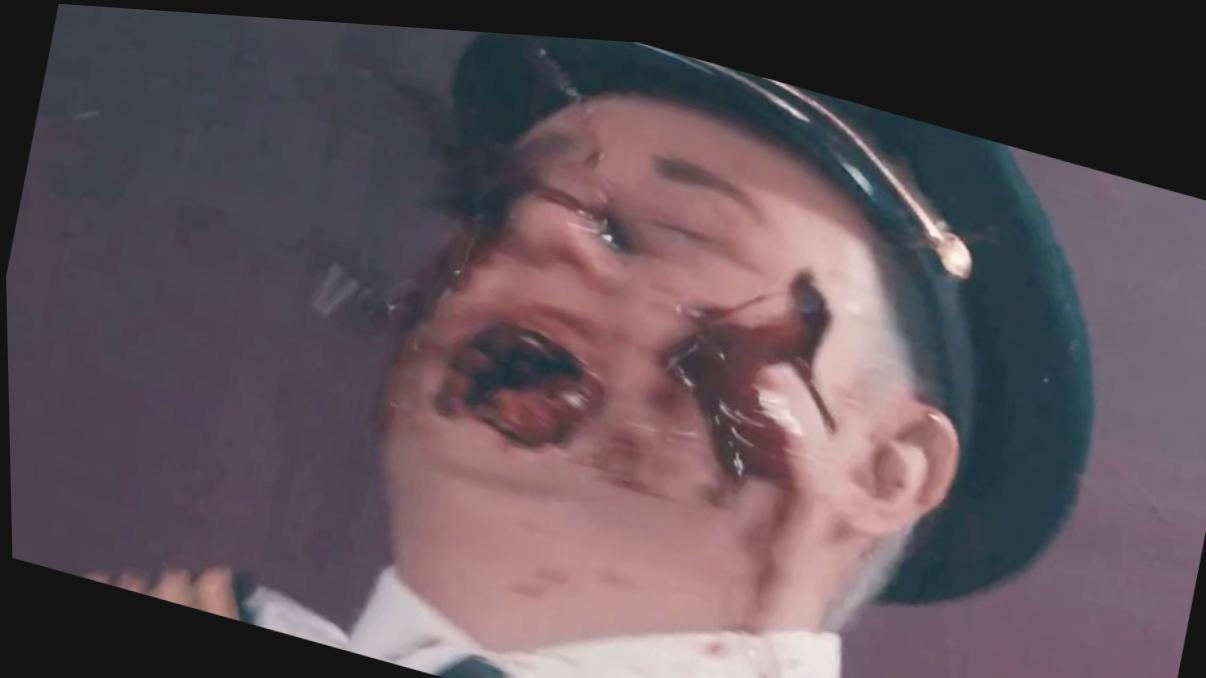Fire: (332, 18, 991, 678)
